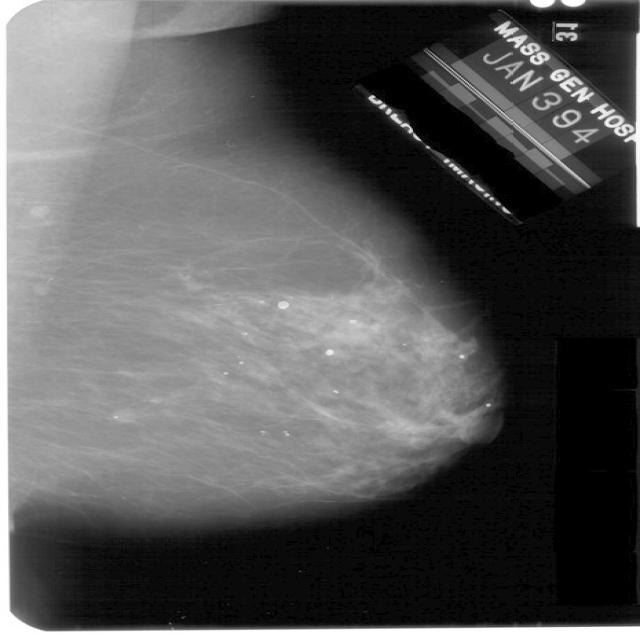tumour: (110, 409, 138, 422)
